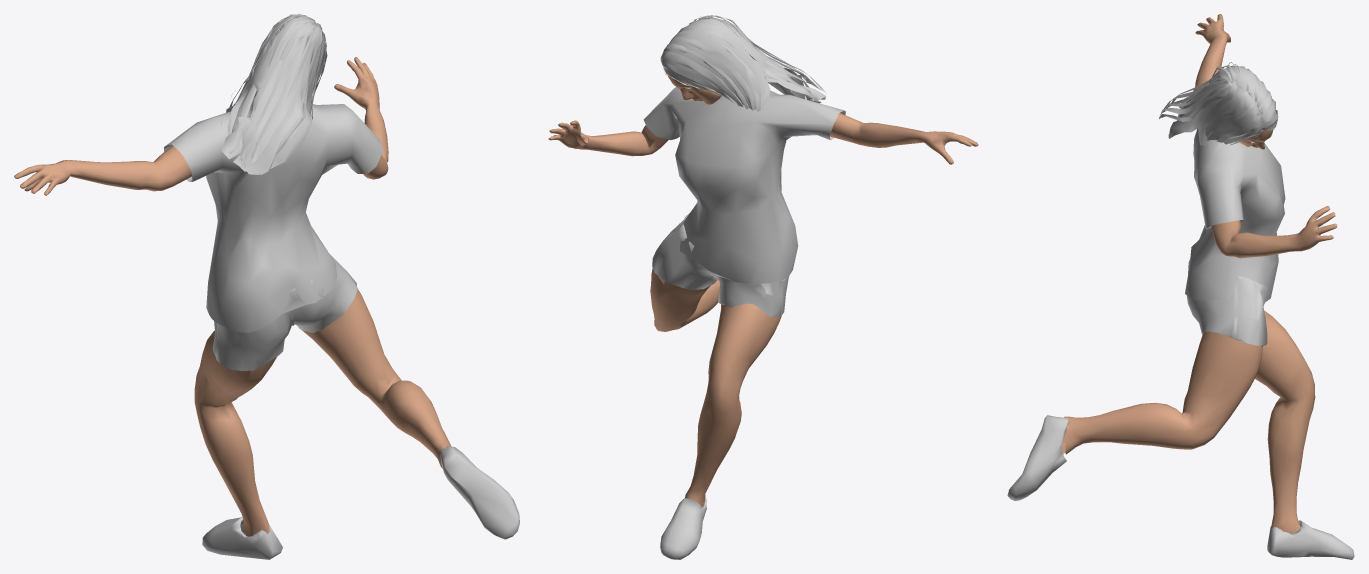
Rendered from player2att_000023.obj.
3 views of the same model, side by side, from view 1: azimuth 30°, elevation 25°; view 2: azimuth 150°, elevation 25°; view 3: azimuth 270°, elevation 25° (orthographic). The views are drawn at different scales.
Visible parts, largest first — view 1: player2:tshirt02, player2:Body, player2:fhair01, player2:shoes02, player2:short01; view 2: player2:tshirt02, player2:Body, player2:fhair01, player2:short01, player2:shoes02; view 3: player2:Body, player2:tshirt02, player2:fhair01, player2:shoes02, player2:short01.
Boxes of the visible parts, x1,y1,x2,y2 form: player2:tshirt02: (164, 104, 382, 332); player2:Body: (14, 57, 450, 536); player2:fhair01: (221, 14, 327, 174); player2:shoes02: (202, 446, 519, 559); player2:short01: (212, 254, 357, 370); player2:tshirt02: (643, 87, 845, 284); player2:Body: (548, 74, 978, 506); player2:fhair01: (660, 15, 826, 111); player2:short01: (652, 213, 789, 316); player2:shoes02: (660, 495, 706, 559); player2:Body: (1062, 14, 1337, 533); player2:tshirt02: (1185, 85, 1285, 305); player2:fhair01: (1159, 62, 1278, 145); player2:shoes02: (1007, 415, 1354, 559); player2:short01: (1186, 274, 1267, 345).
Bounding box in the file's own units: 12.53 × 16.21 × 10.14.
